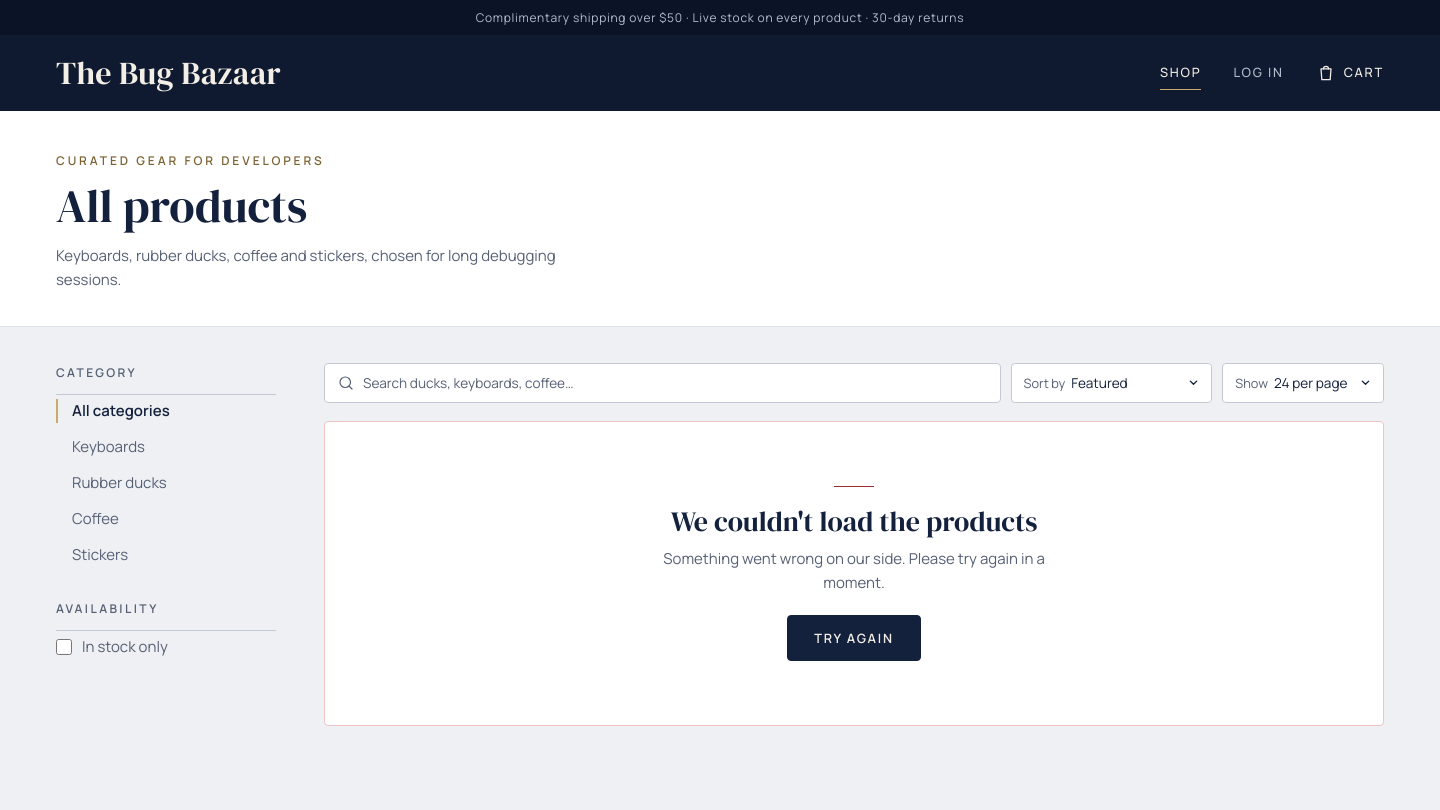
it: UI states › a server error shows a friendly message with Try again, and retrying recovers
Check: the message shows "We couldn't load the products", box x1=671 y1=502 x2=1037 y2=540
Step 1. Click the button "Try again" → (854, 638), box x1=787 y1=615 x2=921 y2=661
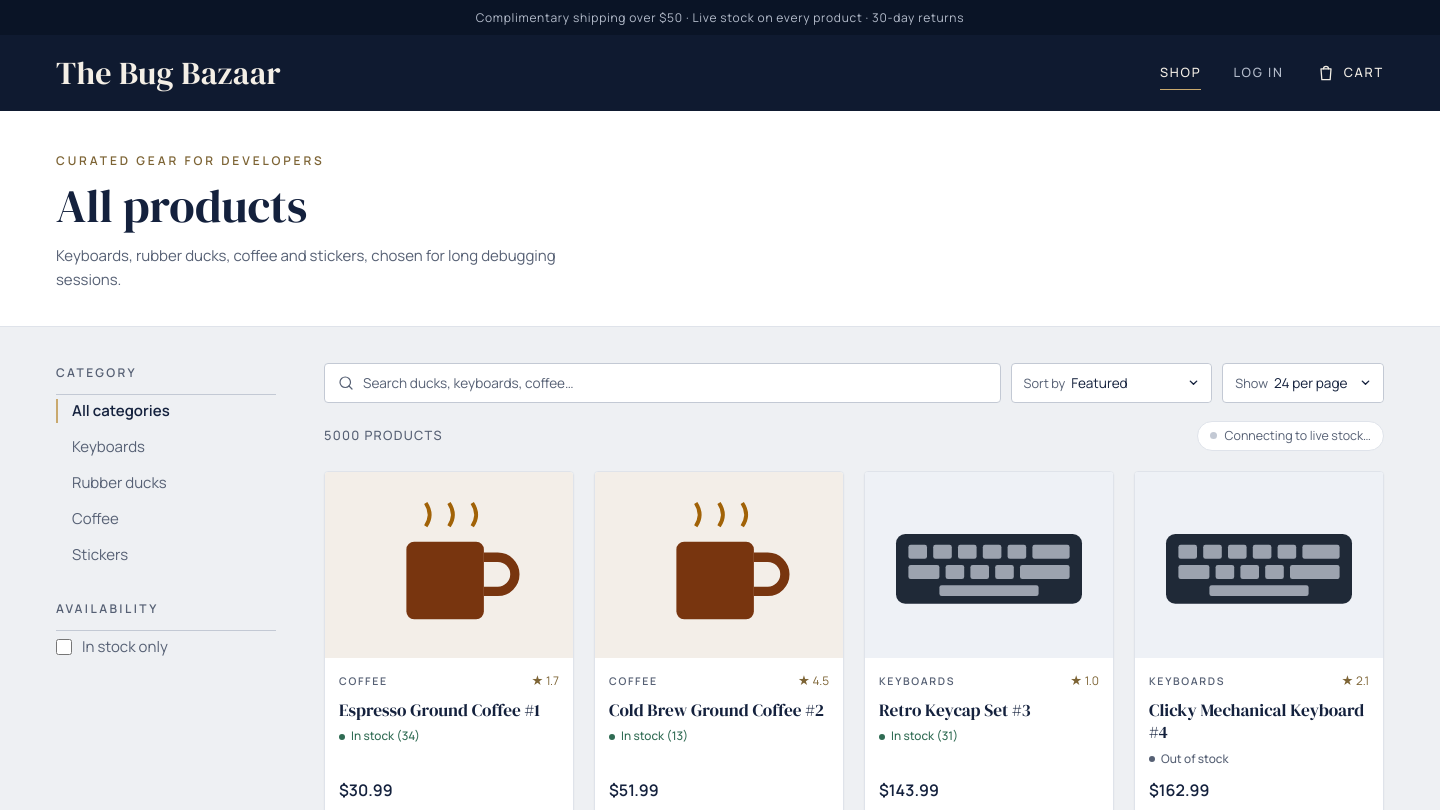
Check: the text "5000 products" is shown, box x1=324 y1=426 x2=443 y2=446
